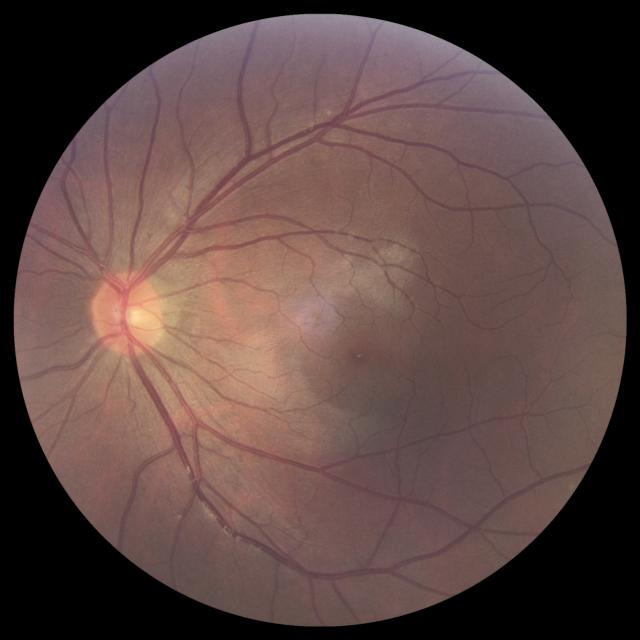OC: (114, 300, 144, 330)
OD: (90, 270, 162, 356)
